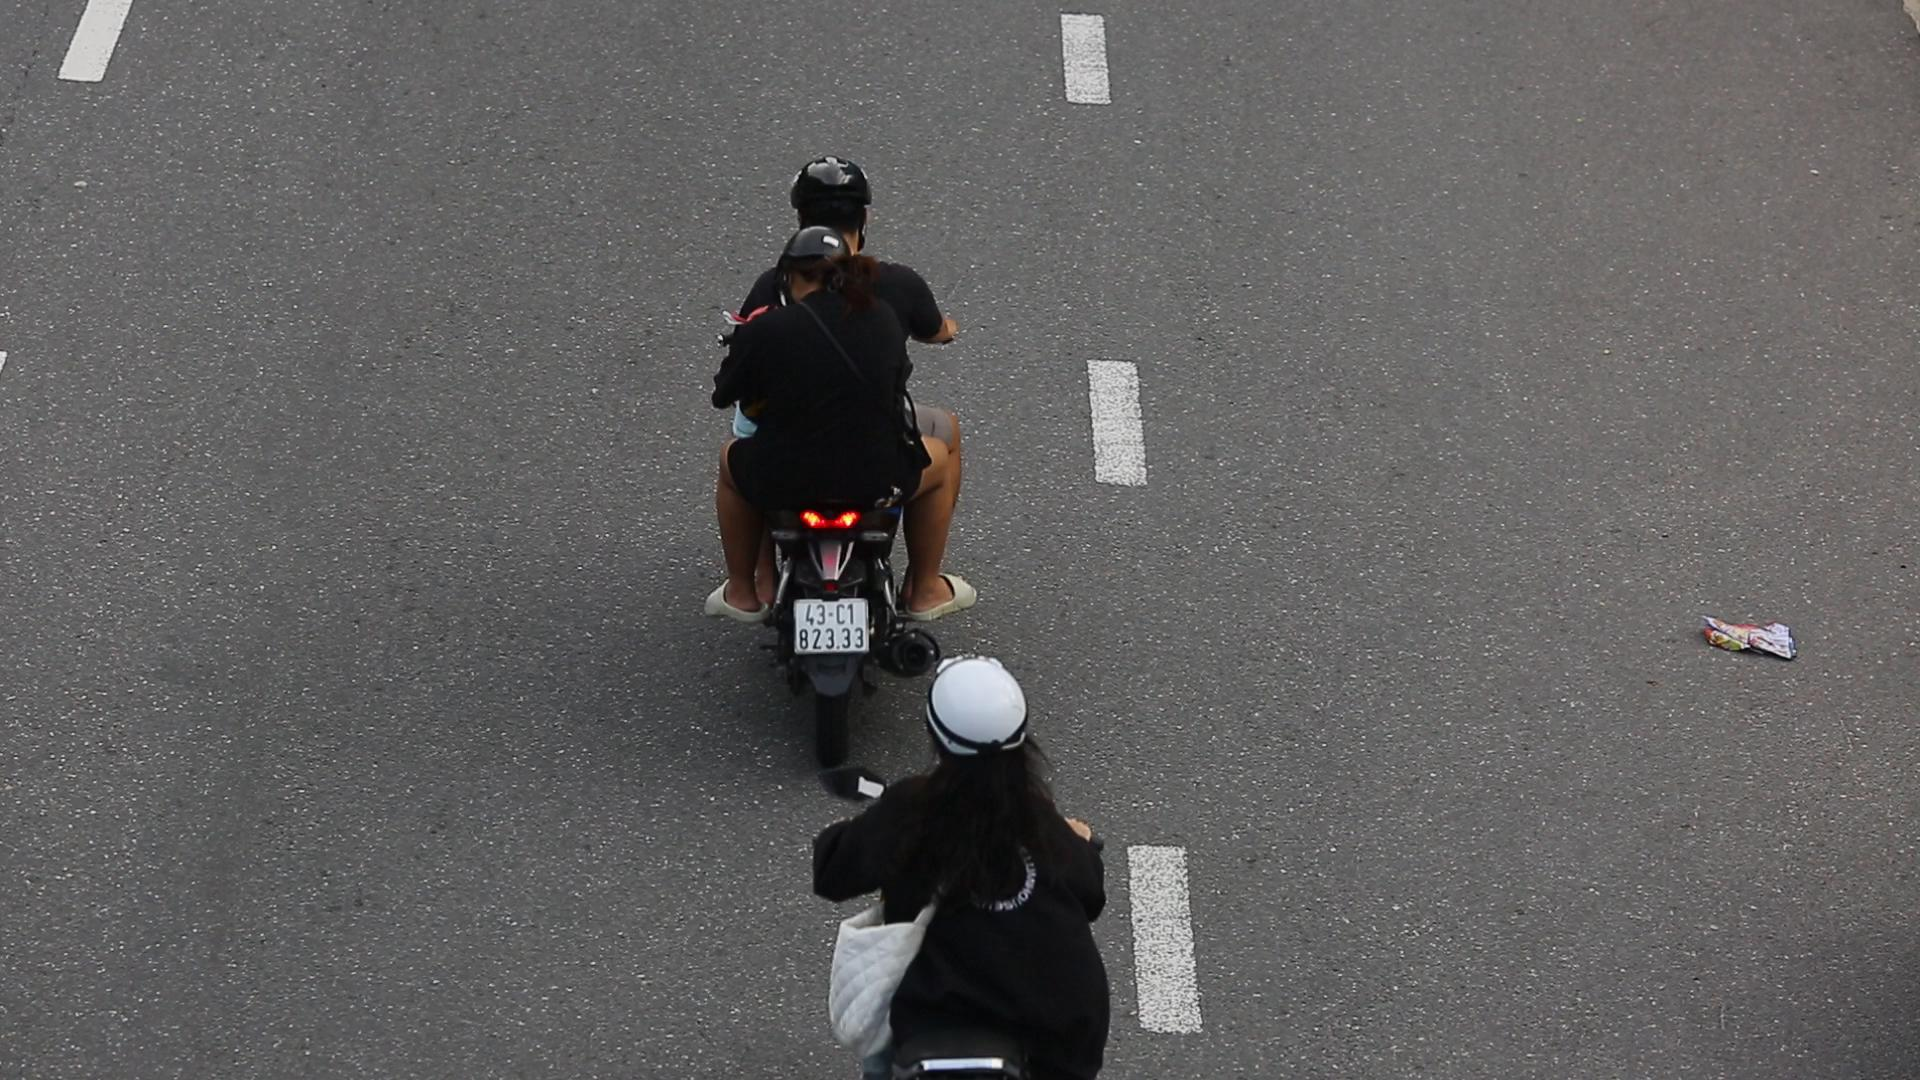motobike: (708, 144, 943, 738)
